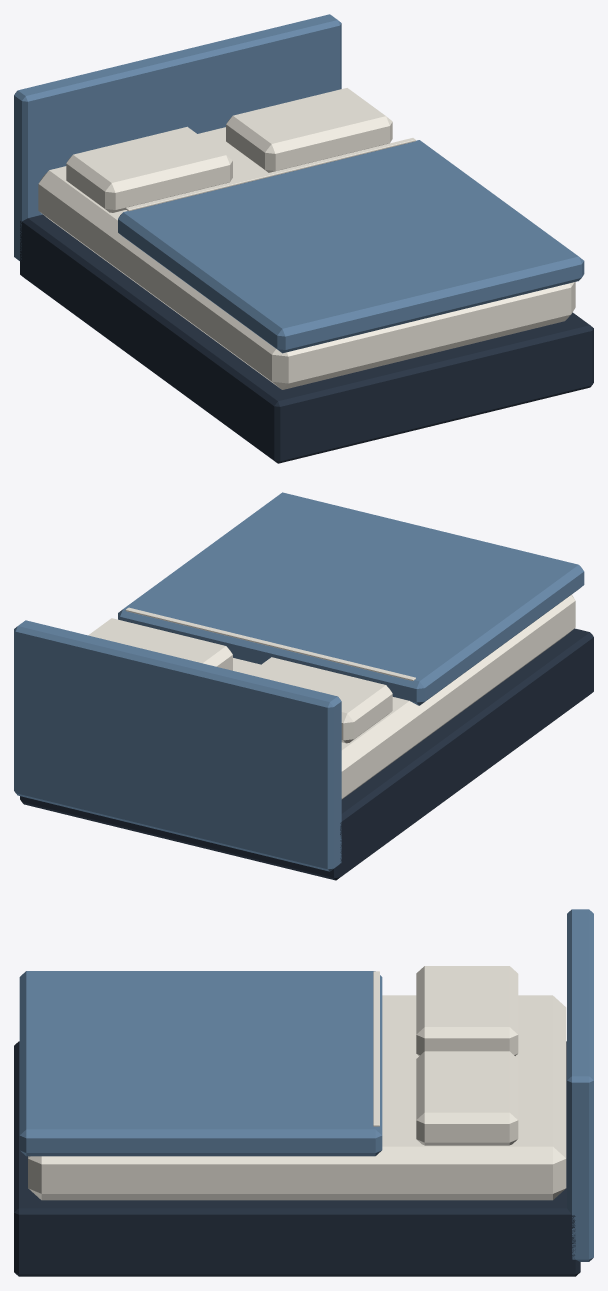
The model's file is living_11.glb.
3 renders of one model, top to bottom at view 1: azimuth 30°, elevation 25°; view 2: azimuth 150°, elevation 25°; view 3: azimuth 270°, elevation 25°, orthographic. The views are drawn at different scales.
Parts seen in each view (by area): view 1: Blanket, BedBase, Headboard, Mattress, Pillow (×2), BlanketSeam; view 2: Headboard, Blanket, BedBase, Mattress, Pillow (×2), BlanketSeam; view 3: Blanket, BedBase, Mattress, Pillow (×2), Headboard, BlanketSeam.
Part boxes in pixels (bbox=[...]): Blanket: bbox=[118, 140, 584, 353]; BedBase: bbox=[20, 214, 593, 463]; Headboard: bbox=[14, 14, 341, 260]; Mattress: bbox=[38, 127, 575, 389]; Pillow (×2): bbox=[66, 88, 392, 212]; BlanketSeam: bbox=[125, 138, 415, 211]; Headboard: bbox=[14, 620, 341, 871]; Blanket: bbox=[118, 492, 584, 705]; BedBase: bbox=[20, 628, 593, 880]; Mattress: bbox=[233, 594, 575, 799]; Pillow (×2): bbox=[88, 618, 392, 743]; BlanketSeam: bbox=[125, 607, 415, 680]; Blanket: bbox=[19, 971, 382, 1156]; BedBase: bbox=[14, 1041, 580, 1276]; Mattress: bbox=[28, 995, 566, 1200]; Pillow (×2): bbox=[416, 966, 518, 1145]; Headboard: bbox=[567, 909, 593, 1261]; BlanketSeam: bbox=[373, 971, 379, 1126].
Size of the model in its own units: 1.5 by 0.82 by 2.15.
